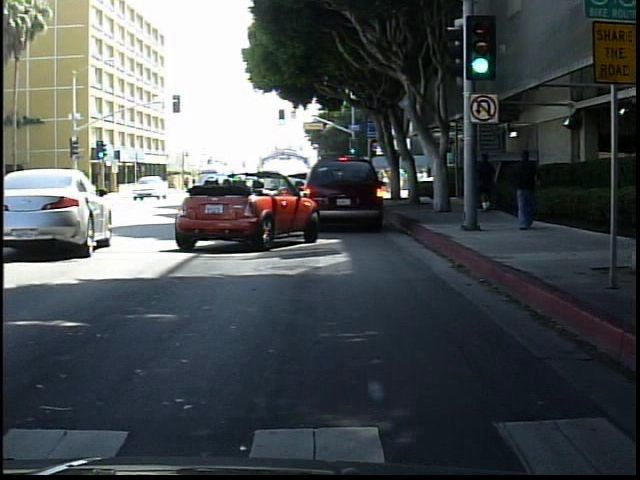person: (509, 140, 544, 232), (476, 149, 502, 217)
